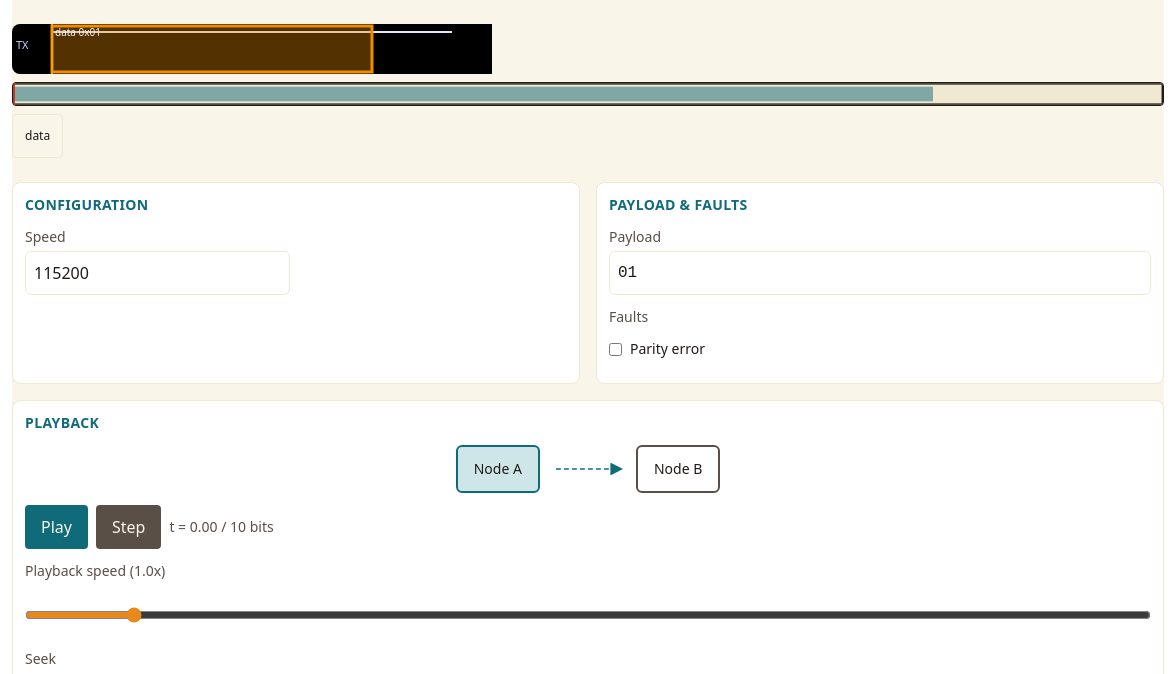
Scenario: ProtocolView › shows an error for invalid hex and does not encode it
Replace the text in the field labelled "Payload" with "zz": (880, 273) [609,251,1151,295]
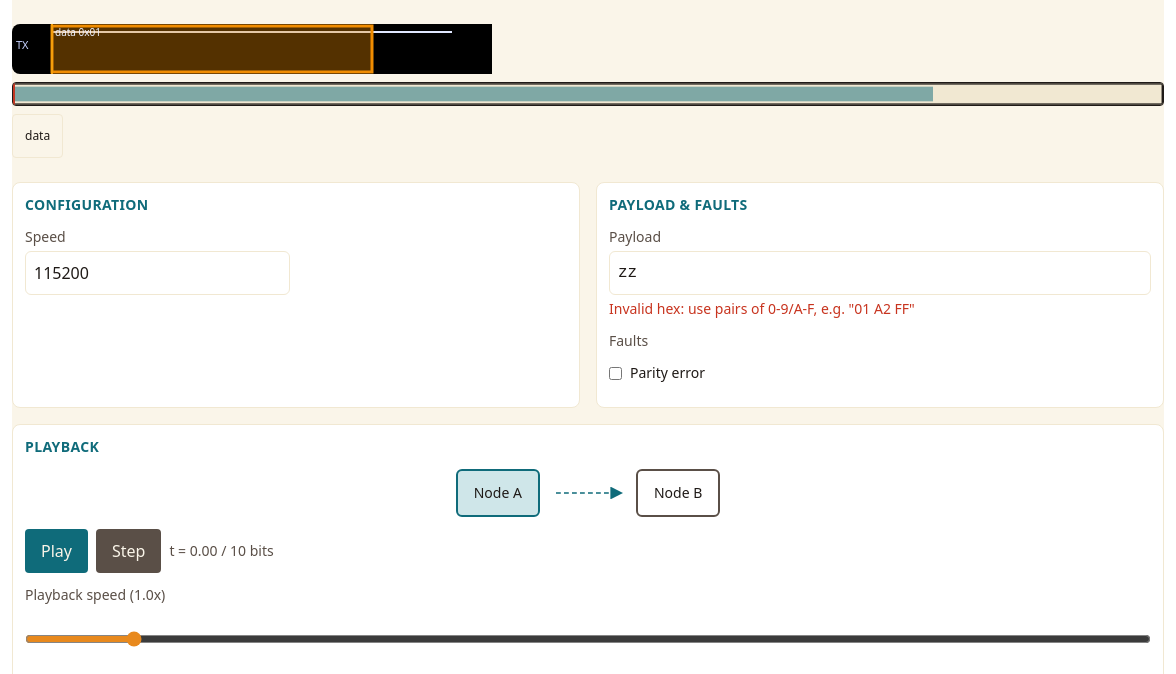
Now the text "Invalid hex: use pairs of 0-9/A-F, e.g. \"01 A2 FF\"" is shown, box [609,299,915,318]
